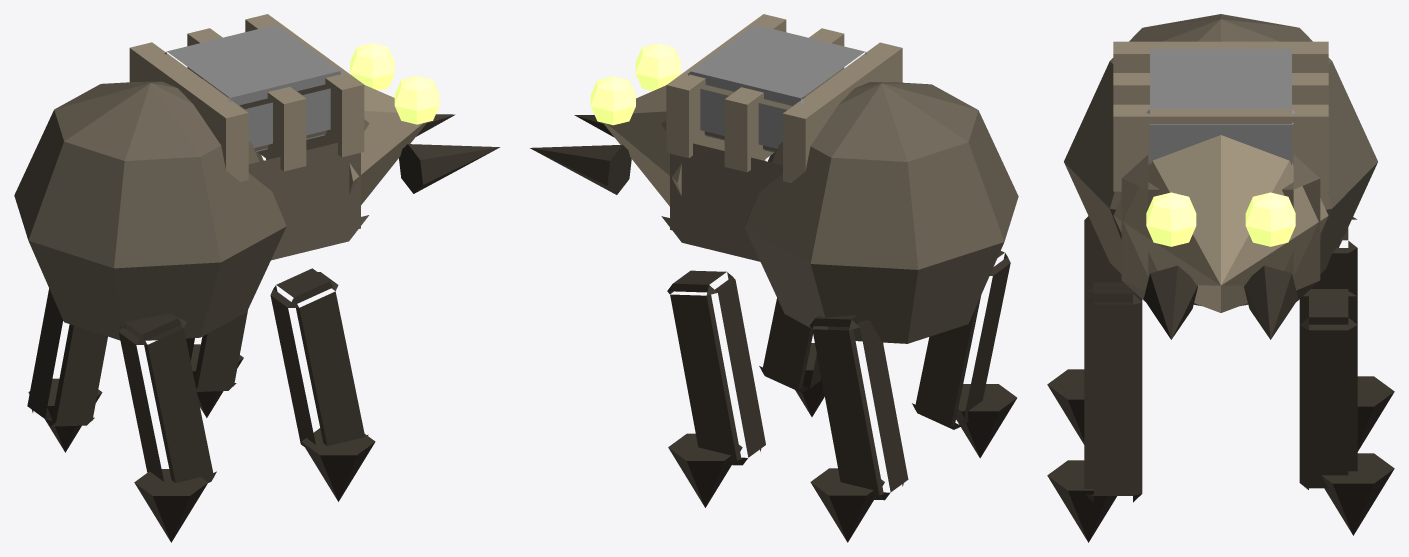
File: bl_swarmer.glb
3 renders of one model, left to right at view 1: azimuth 30°, elevation 25°; view 2: azimuth 150°, elevation 25°; view 3: azimuth 270°, elevation 25°, orthographic. The views are drawn at different scales.
Parts seen in each view (by area): view 1: body, leg_2_a, leg_3_b, leg_1_a, leg_0_b; view 2: body, leg_0_b, leg_1_a, leg_3_b, leg_2_a; view 3: body, leg_2_a, leg_0_b, leg_1_a, leg_3_b.
Part boxes in pixels (x1,y1,x2,y2): body: (14,14,500,340); leg_2_a: (270,268,375,501); leg_3_b: (118,313,216,542); leg_1_a: (27,288,107,452); leg_0_b: (186,310,247,417); body: (530,14,1018,343); leg_0_b: (667,270,765,507); leg_1_a: (809,315,908,542); leg_3_b: (912,251,1016,458); leg_2_a: (759,298,824,416); body: (1064,14,1377,339); leg_2_a: (1047,282,1142,542); leg_0_b: (1299,289,1394,535); leg_1_a: (1299,217,1394,451); leg_3_b: (1047,216,1142,444).
Bounding box in the file's own units: 10.85 × 9.38 × 6.51.
